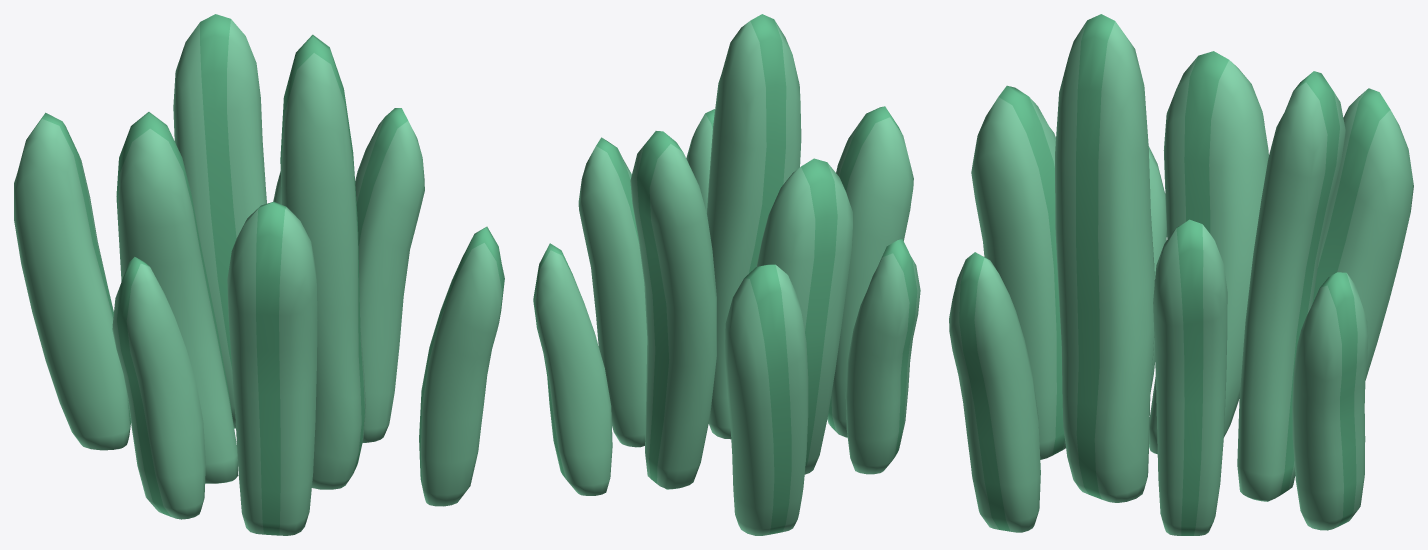
File: Seaweed_A_01.fbx
3 views of the same model, side by side, from view 1: azimuth 30°, elevation 25°; view 2: azimuth 150°, elevation 25°; view 3: azimuth 270°, elevation 25° (orthographic). The views are drawn at different scales.
Parts seen in each view (by area): view 1: Seaweed_A_01_LOD0; view 2: Seaweed_A_01_LOD0; view 3: Seaweed_A_01_LOD0.
Part boxes in pixels (bbox=[...]): Seaweed_A_01_LOD0: bbox=[14, 14, 504, 535]; Seaweed_A_01_LOD0: bbox=[533, 14, 920, 535]; Seaweed_A_01_LOD0: bbox=[949, 14, 1413, 535].
Size of what is drawn, in the model's own units: 339 by 453 by 406.
